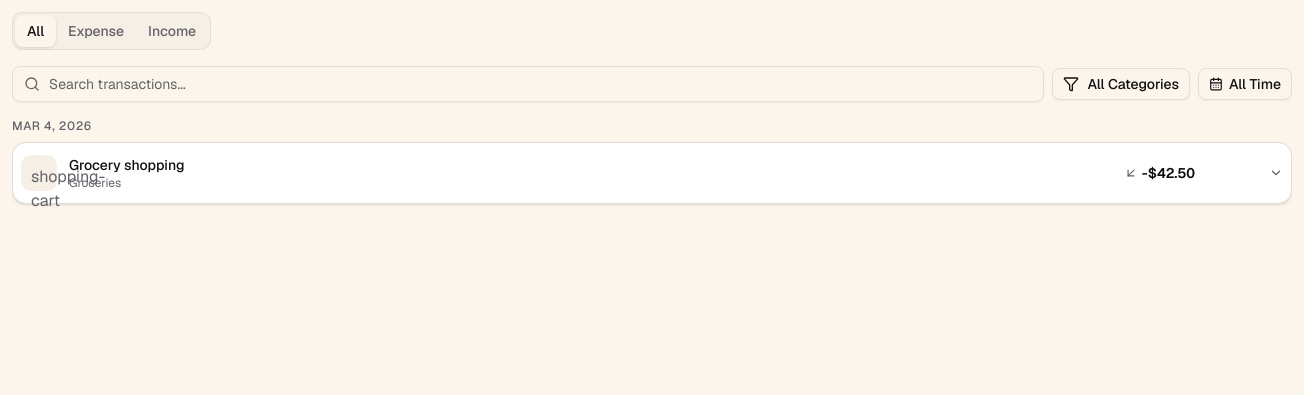
Test case: TransactionList › shows filtered empty state when no matching transactions
The width and height of the screenshot is (1304, 395).
Click the button "income" at (172, 31), box [136,15,208,47]
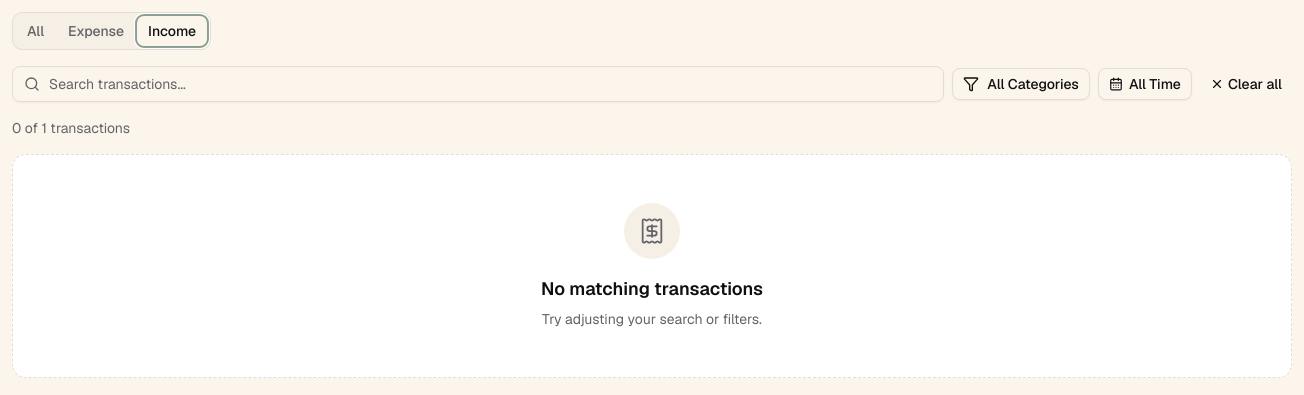
Expected: the heading "No matching transactions" is shown, [541,275,763,303]
Expected: the text "Try adjusting your search or filters." is shown, [542,309,762,329]
